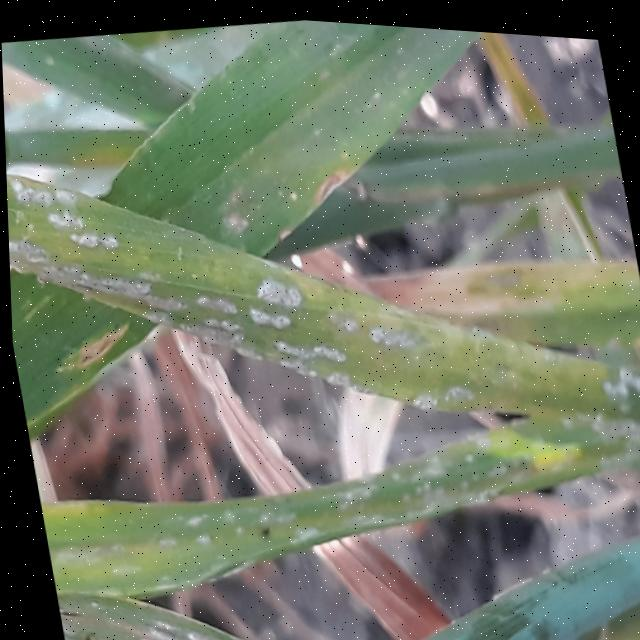powder_mildew: (2, 68, 640, 487), (27, 365, 640, 599), (248, 13, 537, 144), (7, 244, 149, 439), (51, 565, 291, 640)
